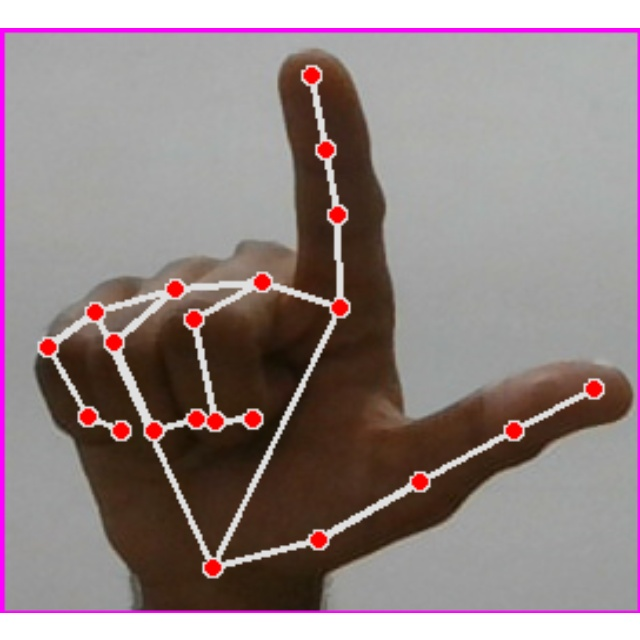L: (0, 28, 640, 613)
